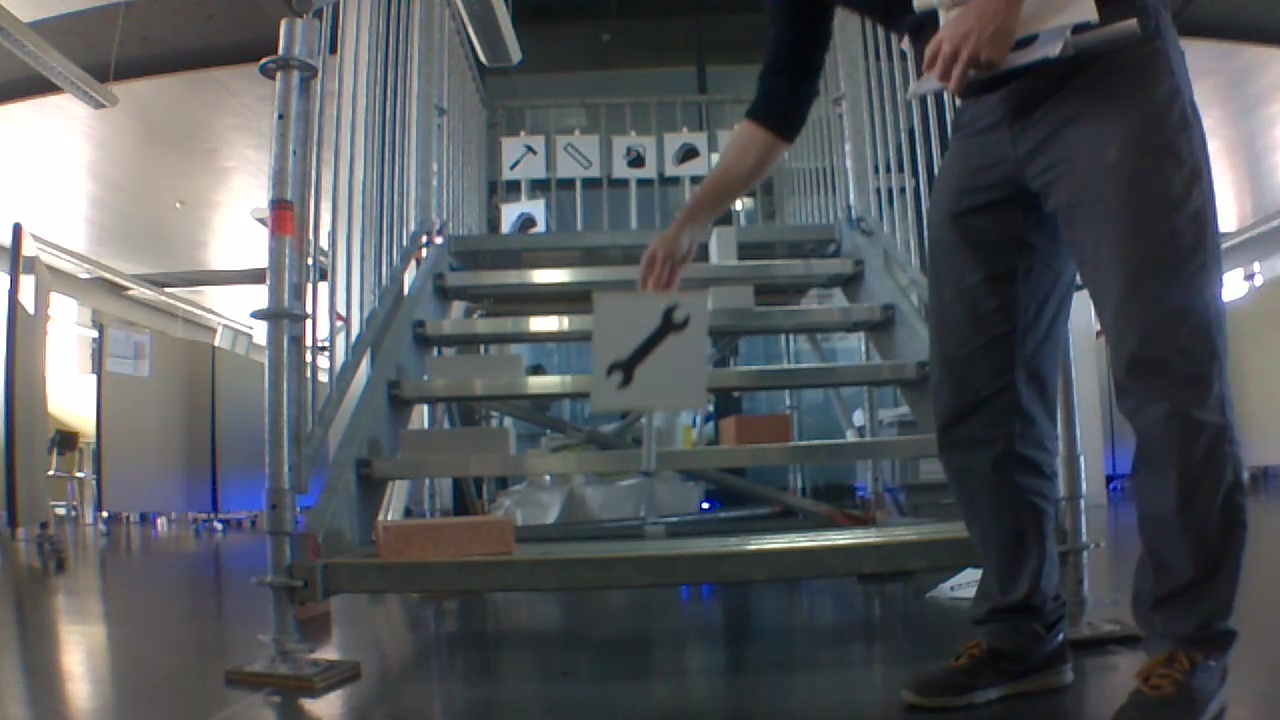brick: (373, 513, 515, 560), (397, 425, 519, 457), (421, 348, 524, 384), (716, 412, 792, 447), (709, 285, 754, 309), (712, 224, 735, 265)
bucket: (622, 142, 647, 171)
edge: (309, 531, 991, 604), (354, 429, 946, 485)
hammer: (505, 140, 539, 173)
ruler: (559, 141, 595, 171)
taco: (506, 205, 544, 235), (671, 141, 700, 165)
wrench: (606, 299, 692, 386)
